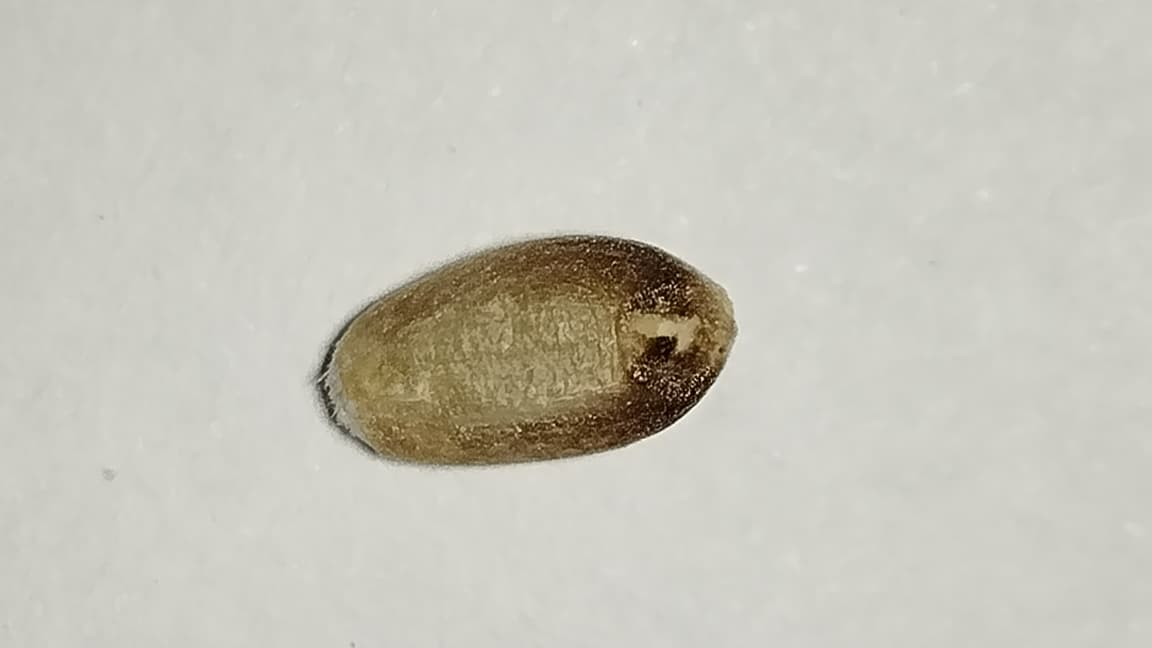damage: (321, 237, 735, 464)
staindamage: (459, 232, 736, 462)
